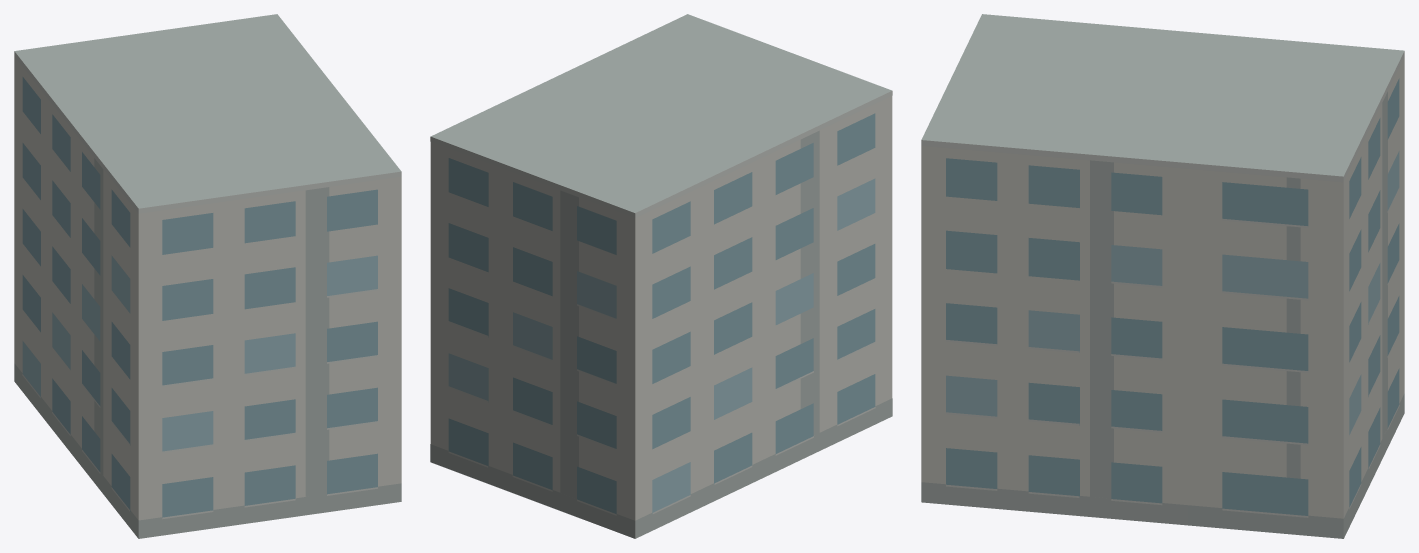
The model's file is residential-c6753ec5-eb76-4d43-aa2a-8b87c0d04ac4.glb.
3 renders of one model, left to right at view 1: azimuth 30°, elevation 25°; view 2: azimuth 150°, elevation 25°; view 3: azimuth 270°, elevation 25°, orthographic. The views are drawn at different scales.
Visible parts, largest first — view 1: residential-c6753ec5-eb76-4d43-aa2a-8b87c0d04ac4.tmp; view 2: residential-c6753ec5-eb76-4d43-aa2a-8b87c0d04ac4.tmp; view 3: residential-c6753ec5-eb76-4d43-aa2a-8b87c0d04ac4.tmp.
Boxes of the visible parts, x1,y1,x2,y2 form: residential-c6753ec5-eb76-4d43-aa2a-8b87c0d04ac4.tmp: (14,14,401,538); residential-c6753ec5-eb76-4d43-aa2a-8b87c0d04ac4.tmp: (430,14,892,538); residential-c6753ec5-eb76-4d43-aa2a-8b87c0d04ac4.tmp: (921,14,1404,538).
Size of the model in its own units: 14.68 by 15.25 by 18.45.
